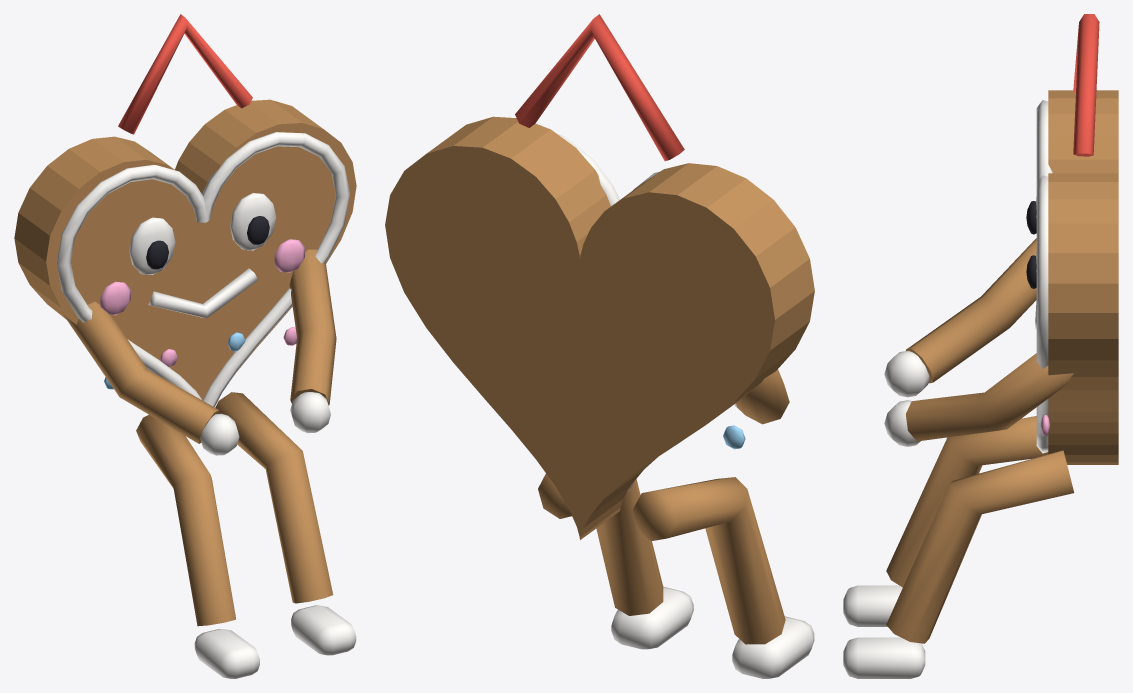
Rendered from driver_lebi.glb.
The picture shows the model from 3 angles, left to right: view 1: azimuth 30°, elevation 25°; view 2: azimuth 150°, elevation 25°; view 3: azimuth 270°, elevation 25°; orthographic projection. The views are drawn at different scales.
Parts seen in each view (by area): view 1: Lebi; view 2: Lebi; view 3: Lebi.
Part boxes in pixels (x1,y1,x2,y2): Lebi: (14, 14, 356, 678); Lebi: (385, 14, 814, 678); Lebi: (843, 14, 1118, 678).
Bounding box in the file's own units: 1.36 × 2.39 × 0.94.
